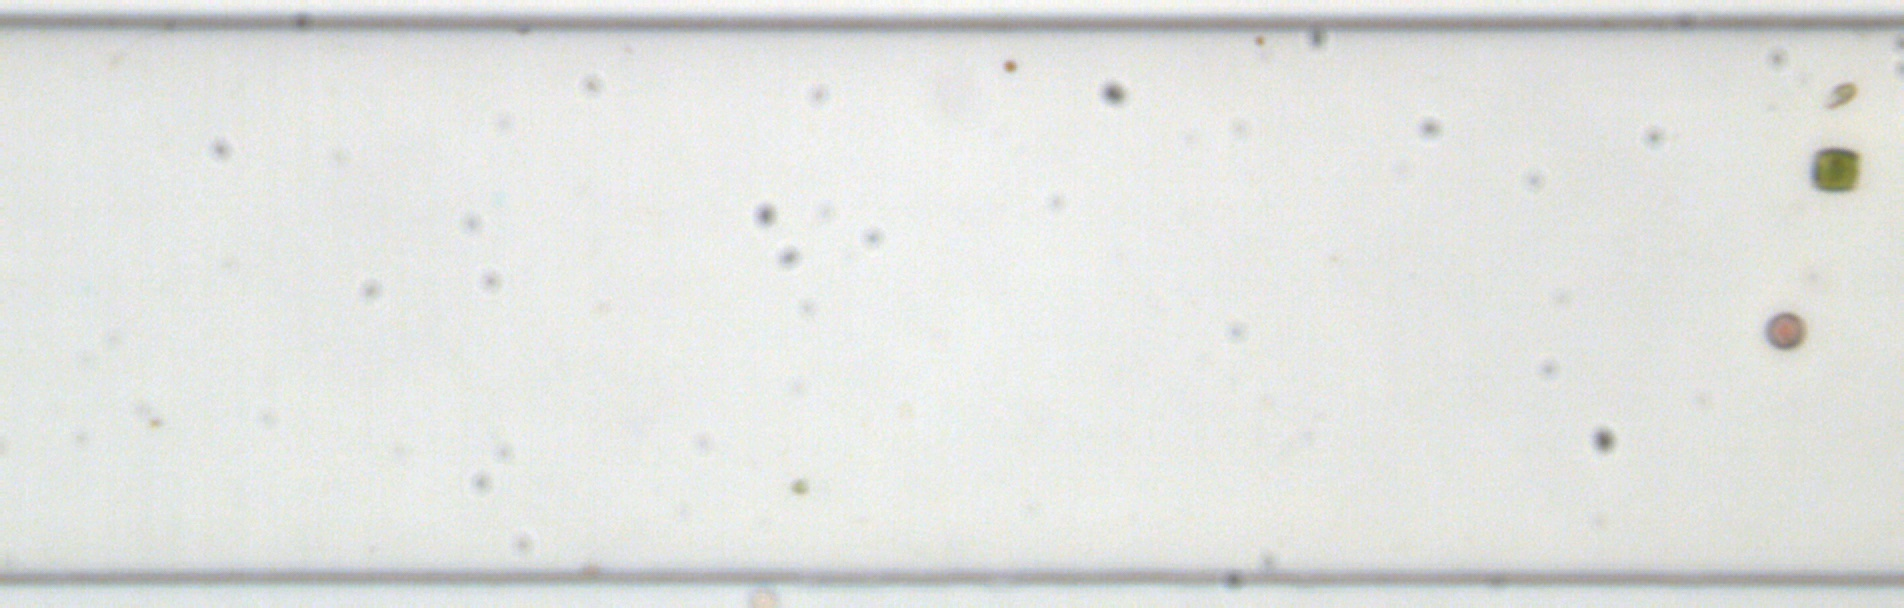Chlorella: (788, 475, 811, 496), (1001, 55, 1019, 74), (1249, 33, 1266, 46)
Dunaliella salina: (1821, 79, 1859, 110)
Platymonas: (1806, 144, 1865, 195)
Porphyridium: (1762, 308, 1807, 352)
